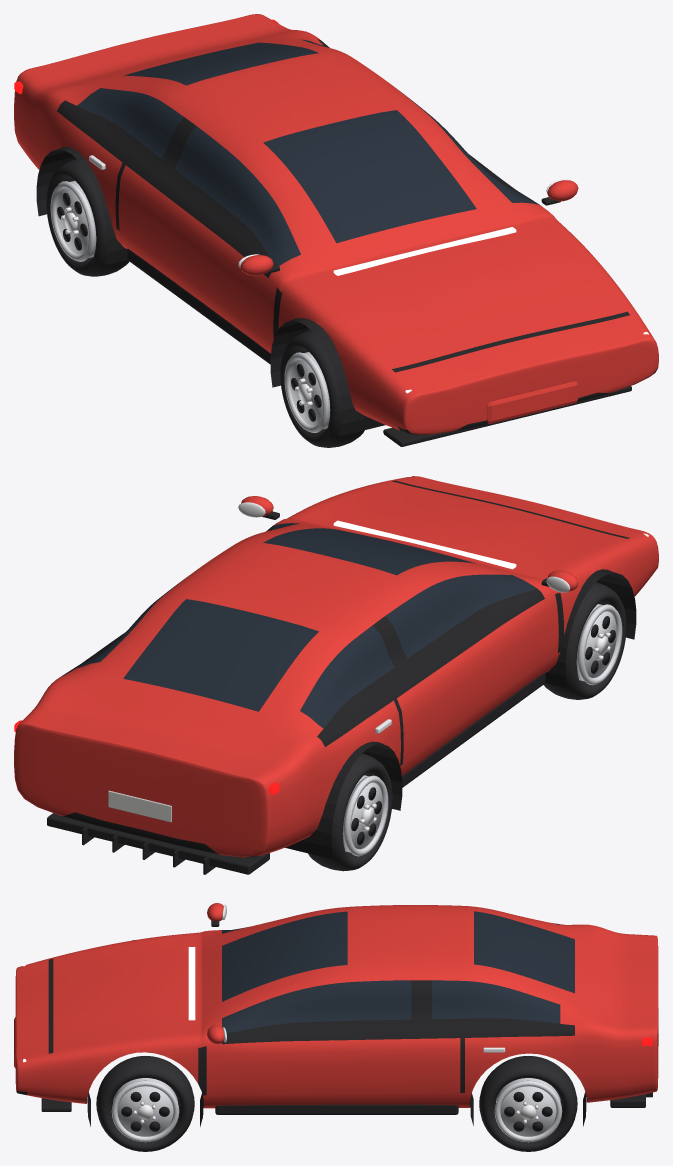
The model's file is volt_mid.glb.
The picture shows the model from 3 angles, top to bottom: view 1: azimuth 30°, elevation 25°; view 2: azimuth 150°, elevation 25°; view 3: azimuth 270°, elevation 25°; orthographic projection. The views are drawn at different scales.
Visible parts, largest first — view 1: body, wheel_rr, wheel_fr; view 2: body, wheel_fr, wheel_rr; view 3: body, wheel_fl, wheel_rl.
Boxes of the visible parts, x1,y1,x2,y2 form: body: (14,14,658,446); wheel_rr: (46,159,129,276); wheel_fr: (280,330,364,447); body: (14,476,658,874); wheel_fr: (543,582,626,699); wheel_rr: (308,753,392,871); body: (14,903,658,1126); wheel_fl: (96,1056,194,1151); wheel_rl: (479,1056,577,1151).
Bounding box in the file's own units: 2.32 × 1.32 × 4.72.
